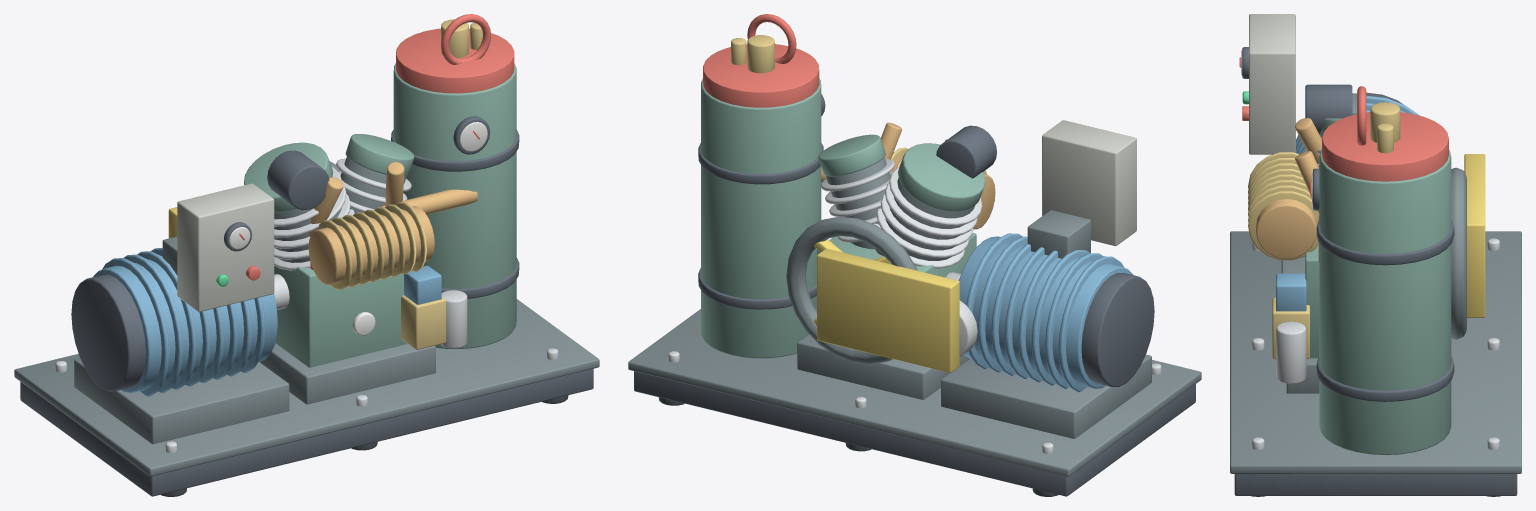
File: air_compressor_skid.glb
The picture shows the model from 3 angles, left to right: view 1: azimuth 30°, elevation 25°; view 2: azimuth 150°, elevation 25°; view 3: azimuth 270°, elevation 25°; orthographic projection. The views are drawn at different scales.
Visible parts, largest first — view 1: Compressor_Frame__Iron, Pressure_Receiver_Bottle, Electric_Motor_440V, Two_Stage_Cylinder, Compressor_Frame, Solenoid_Unloader_Valve__PebbleGrey, Intercooler_Coil, Electric_Motor_440V__DarkPlinth, Pressure_Receiver_Bottle__StatusRed, Intercooler_Coil__GoldBrass, Two_Stage_Cylinder__Steel, Two_Stage_Cylinder__DarkPlinth (+7 smaller); view 2: Compressor_Frame__Iron, Pressure_Receiver_Bottle, Electric_Motor_440V, Compressor_Frame__SafetyYellow, Compressor_Frame, Solenoid_Unloader_Valve__PebbleGrey, Two_Stage_Cylinder, Electric_Motor_440V__DarkPlinth, Pressure_Receiver_Bottle__StatusRed, Two_Stage_Cylinder__Steel, V_Belt_Drive, Two_Stage_Cylinder__Iron (+6 smaller); view 3: Pressure_Receiver_Bottle, Compressor_Frame__Iron, Pressure_Receiver_Bottle__StatusRed, Solenoid_Unloader_Valve__PebbleGrey, Compressor_Frame, Intercooler_Coil, Pressure_Receiver_Bottle__DarkPlinth, Intercooler_Coil__GoldBrass, Compressor_Frame__SafetyYellow, V_Belt_Drive, Solenoid_Unloader_Valve__Steel, Two_Stage_Cylinder__DarkPlinth (+6 smaller).
Part boxes in pixels (x1=…): Compressor_Frame__Iron: x1=14, y1=299, x2=599, y2=476; Pressure_Receiver_Bottle: x1=393, y1=63, x2=516, y2=348; Electric_Motor_440V: x1=93, y1=248, x2=277, y2=396; Two_Stage_Cylinder: x1=244, y1=134, x2=414, y2=367; Compressor_Frame: x1=20, y1=368, x2=593, y2=496; Solenoid_Unloader_Valve__PebbleGrey: x1=177, y1=183, x2=274, y2=311; Intercooler_Coil: x1=308, y1=162, x2=477, y2=285; Electric_Motor_440V__DarkPlinth: x1=71, y1=274, x2=145, y2=391; Pressure_Receiver_Bottle__StatusRed: x1=396, y1=14, x2=514, y2=139; Intercooler_Coil__GoldBrass: x1=317, y1=202, x2=426, y2=289; Two_Stage_Cylinder__Steel: x1=274, y1=158, x2=411, y2=270; Two_Stage_Cylinder__DarkPlinth: x1=267, y1=150, x2=329, y2=210; Compressor_Frame__Iron: x1=628, y1=309, x2=1201, y2=476; Pressure_Receiver_Bottle: x1=701, y1=78, x2=821, y2=358; Electric_Motor_440V: x1=959, y1=233, x2=1133, y2=392; Compressor_Frame__SafetyYellow: x1=817, y1=248, x2=959, y2=372; Compressor_Frame: x1=634, y1=371, x2=1195, y2=496; Solenoid_Unloader_Valve__PebbleGrey: x1=1042, y1=120, x2=1136, y2=246; Two_Stage_Cylinder: x1=817, y1=134, x2=985, y2=277; Electric_Motor_440V__DarkPlinth: x1=1081, y1=273, x2=1154, y2=386; Pressure_Receiver_Bottle__StatusRed: x1=703, y1=14, x2=819, y2=107; Two_Stage_Cylinder__Steel: x1=821, y1=159, x2=982, y2=268; V_Belt_Drive: x1=786, y1=216, x2=917, y2=364; Two_Stage_Cylinder__Iron: x1=826, y1=157, x2=974, y2=260; Pressure_Receiver_Bottle: x1=1319, y1=149, x2=1451, y2=454; Compressor_Frame__Iron: x1=1230, y1=231, x2=1521, y2=473; Pressure_Receiver_Bottle__StatusRed: x1=1310, y1=86, x2=1448, y2=195; Solenoid_Unloader_Valve__PebbleGrey: x1=1249, y1=14, x2=1295, y2=154; Compressor_Frame: x1=1234, y1=474, x2=1517, y2=495; Intercooler_Coil: x1=1256, y1=118, x2=1321, y2=262; Pressure_Receiver_Bottle__DarkPlinth: x1=1313, y1=168, x2=1454, y2=401; Intercooler_Coil__GoldBrass: x1=1248, y1=152, x2=1318, y2=260; Compressor_Frame__SafetyYellow: x1=1464, y1=154, x2=1485, y2=317; V_Belt_Drive: x1=1451, y1=167, x2=1466, y2=339; Solenoid_Unloader_Valve__Steel: x1=1276, y1=321, x2=1306, y2=383; Two_Stage_Cylinder__DarkPlinth: x1=1305, y1=84, x2=1352, y2=134.
Bounding box in the file's own units: 1.18 × 0.8946 × 0.62.
